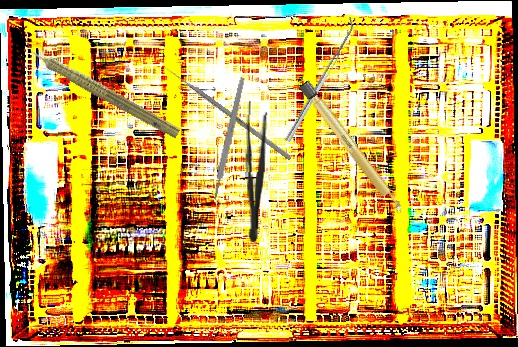Dressing Forceps: (242, 101, 269, 243)
Handpiece: (17, 36, 185, 142)
Pusher: (159, 62, 293, 161)
Scalpel Handle: (298, 79, 406, 218), (211, 76, 246, 201)
Spatula Surgical: (279, 16, 360, 143)
